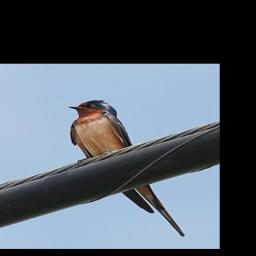Swallow: (67, 98, 185, 236)
